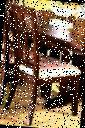Mesa: (0, 10, 84, 113)
Silla: (0, 3, 84, 127)
